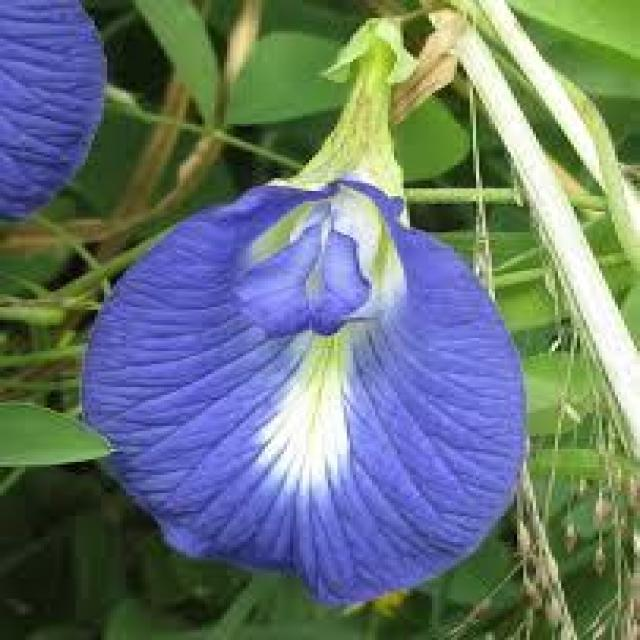organic waste: (85, 183, 536, 604)
